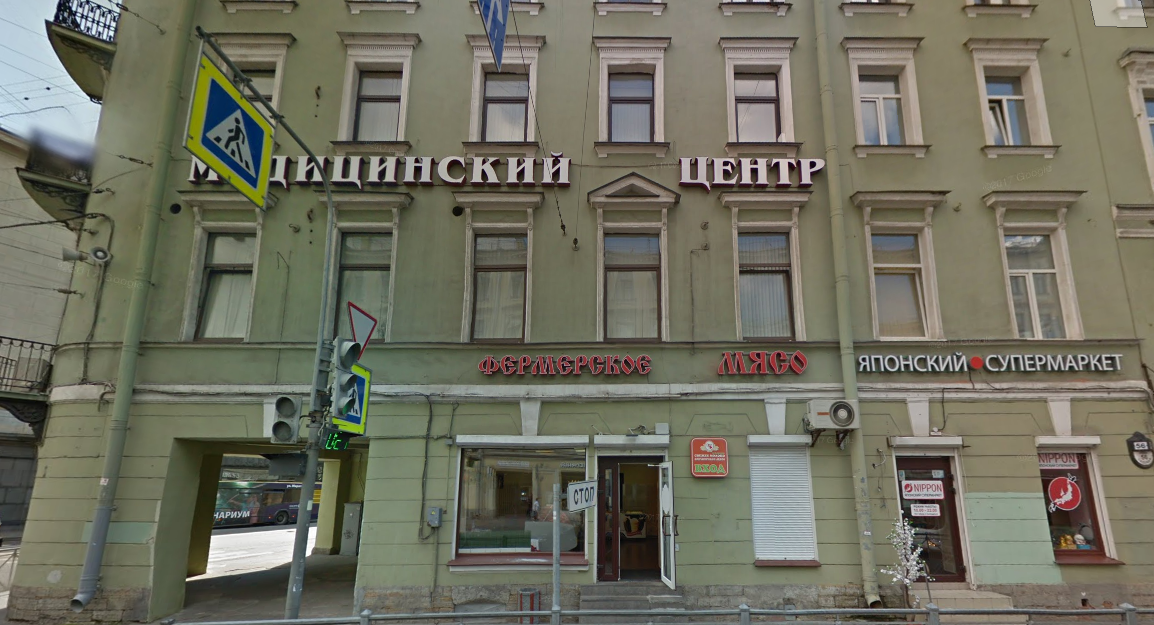arch: (145, 424, 381, 621)
door: (598, 445, 676, 589), (898, 452, 967, 589)
signboard: (180, 140, 831, 203), (475, 349, 819, 383), (857, 344, 1127, 385), (683, 429, 736, 481)
window: (456, 439, 584, 561), (1036, 443, 1106, 561), (196, 224, 260, 342), (466, 231, 529, 339), (333, 225, 389, 345), (868, 230, 924, 342), (606, 230, 661, 344), (980, 65, 1045, 150), (745, 231, 794, 341), (1007, 233, 1057, 339), (606, 65, 664, 145), (861, 63, 914, 146), (354, 64, 405, 146), (482, 63, 534, 137), (736, 66, 786, 136)
